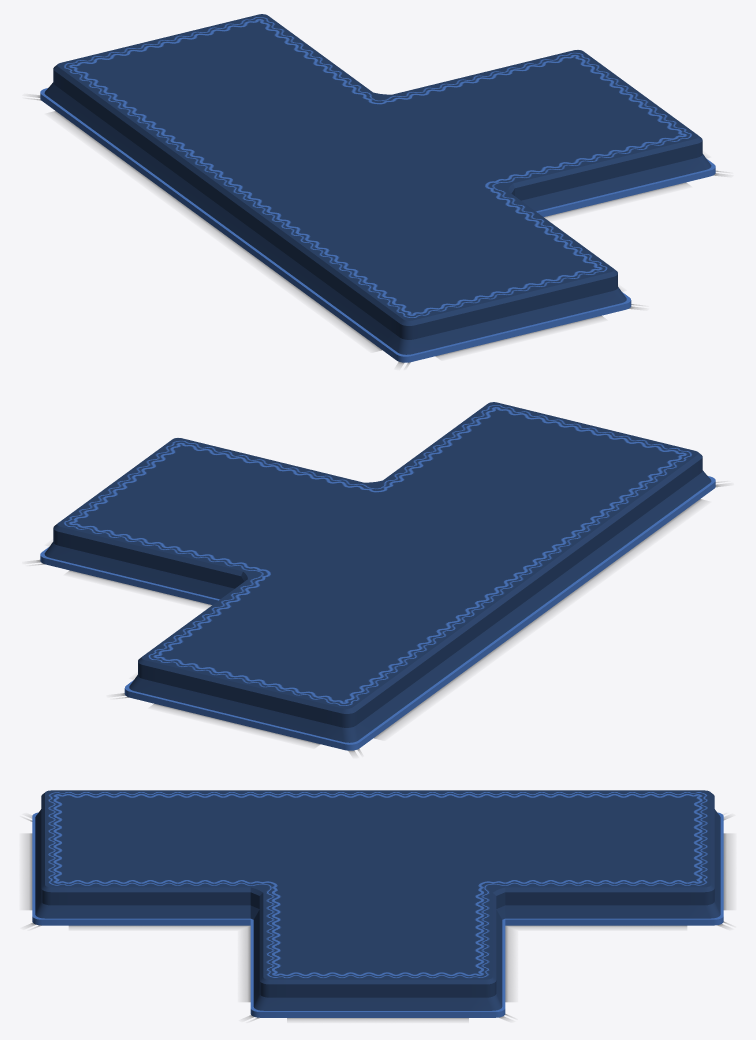
Rendered from island_t.glb.
3 renders of one model, top to bottom at view 1: azimuth 30°, elevation 25°; view 2: azimuth 150°, elevation 25°; view 3: azimuth 270°, elevation 25°, orthographic. The views are drawn at different scales.
Parts seen in each view (by area): view 1: slice_bot.015; view 2: slice_bot.015; view 3: slice_bot.015.
Part boxes in pixels (box(x1,y1,x2,y2)): slice_bot.015: box(32, 14, 723, 365); slice_bot.015: box(32, 402, 723, 753); slice_bot.015: box(26, 790, 729, 1019).
Size of the model in its own units: 28 by 2 by 40.
Materials: 5 (5 with a texture image).
